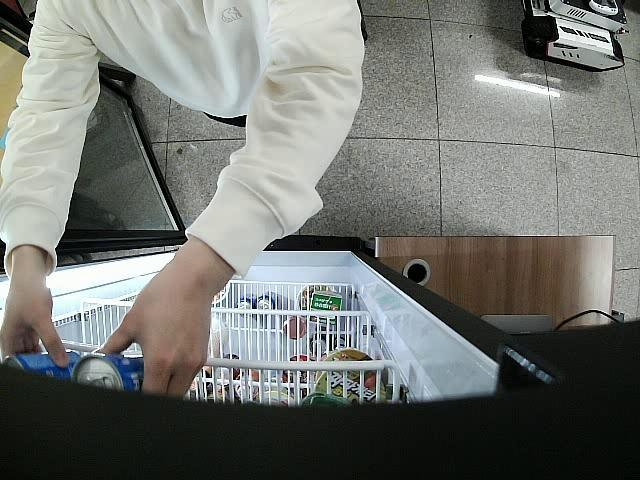15_letsbe: (0, 350, 82, 382), (74, 356, 146, 390)
